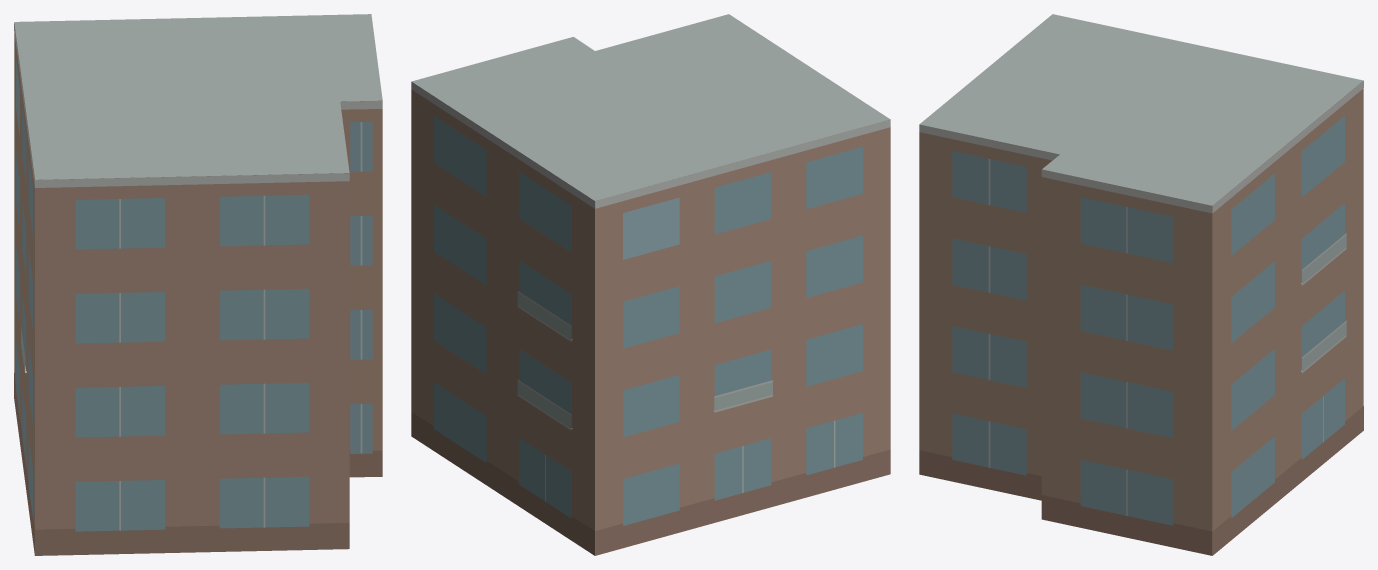
File: survey-upis-32825045.glb
3 views of the same model, side by side, from view 1: azimuth 30°, elevation 25°; view 2: azimuth 150°, elevation 25°; view 3: azimuth 270°, elevation 25° (orthographic). The views are drawn at different scales.
Visible parts, largest first — view 1: survey-upis-32825045.tmp; view 2: survey-upis-32825045.tmp; view 3: survey-upis-32825045.tmp.
Boxes of the visible parts, x1=… form: survey-upis-32825045.tmp: x1=14, y1=14, x2=382, y2=555; survey-upis-32825045.tmp: x1=411, y1=14, x2=890, y2=555; survey-upis-32825045.tmp: x1=919, y1=14, x2=1363, y2=555.
Size of the model in its own units: 13.17 by 11.2 by 12.9.
